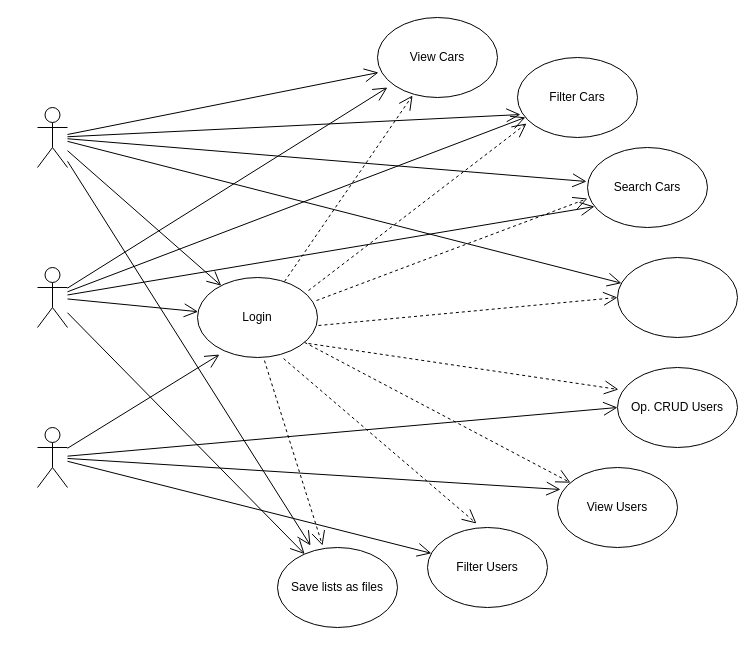
This 755x645 diagram has some shape labels left out. Here are the shapes that lost their labels. From the top down, the centre of each, then its label:
At (52,137): "Employee".
At (52,297): "Manager".
At (677,297): "Op. CRUD Cars".
At (52,457): "Administrator".
